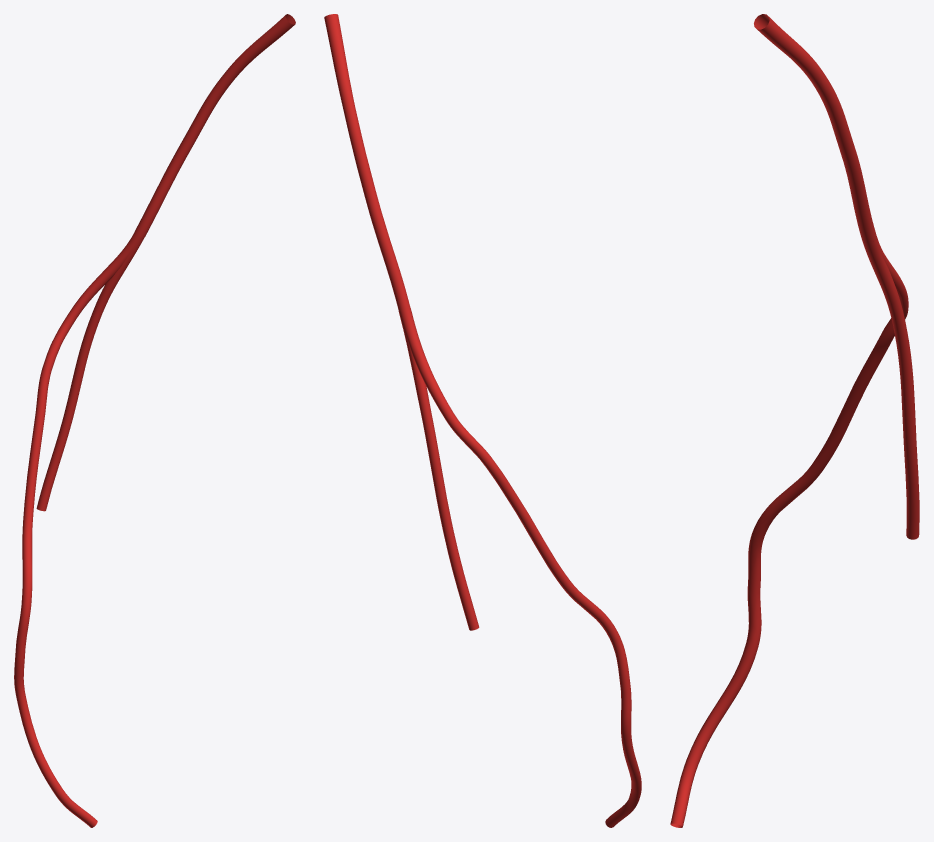
The model's file is circulatorio-deep-brachial-artery-r.glb.
3 views of the same model, side by side, from view 1: azimuth 30°, elevation 25°; view 2: azimuth 150°, elevation 25°; view 3: azimuth 270°, elevation 25° (orthographic). The views are drawn at different scales.
Parts seen in each view (by area): view 1: Radial collateral artery.r, Deep brachial artery.r, Middle collateral artery.r; view 2: Radial collateral artery.r, Deep brachial artery.r, Middle collateral artery.r; view 3: Radial collateral artery.r, Deep brachial artery.r, Middle collateral artery.r.
Boxes of the visible parts, <box> form: Radial collateral artery.r: <box>14,232,144,827</box>; Deep brachial artery.r: <box>134,14,295,237</box>; Middle collateral artery.r: <box>36,234,143,511</box>; Radial collateral artery.r: <box>399,308,641,827</box>; Deep brachial artery.r: <box>324,14,410,310</box>; Middle collateral artery.r: <box>398,308,479,630</box>; Radial collateral artery.r: <box>670,238,908,827</box>; Deep brachial artery.r: <box>754,14,876,243</box>; Middle collateral artery.r: <box>862,236,919,539</box>.
Bounding box in the file's own units: 0.0833 × 0.2055 × 0.0483.
